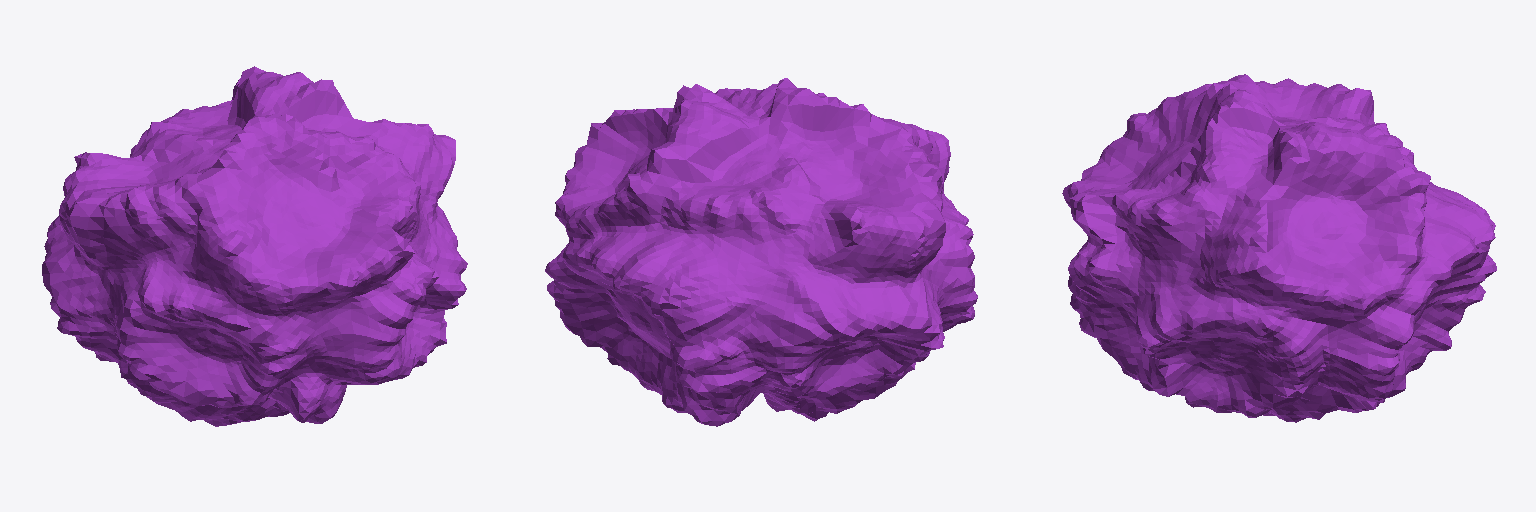
Rendered from outside_ball_coral_1.obj.
3 renders of one model, left to right at view 1: azimuth 30°, elevation 25°; view 2: azimuth 150°, elevation 25°; view 3: azimuth 270°, elevation 25°, orthographic.
Visible parts, largest first — view 1: Outside_ball_coral.001; view 2: Outside_ball_coral.001; view 3: Outside_ball_coral.001.
Part boxes in pixels (bbox=[...]): Outside_ball_coral.001: bbox=[42, 66, 467, 426]; Outside_ball_coral.001: bbox=[545, 78, 977, 426]; Outside_ball_coral.001: bbox=[1062, 74, 1496, 422].
Bounding box in the file's own units: 0.25 × 0.2 × 0.25.